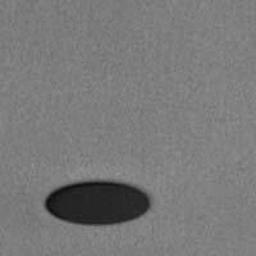Punching: (45, 180, 150, 228)
